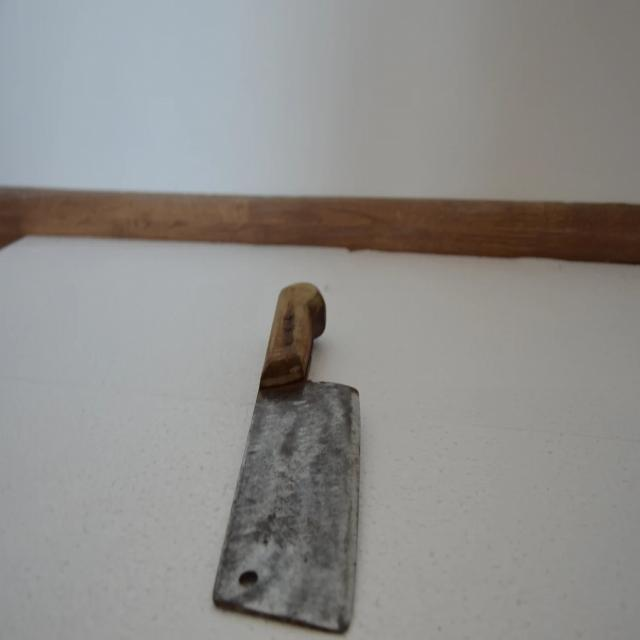cleaver: (216, 284, 360, 632)
